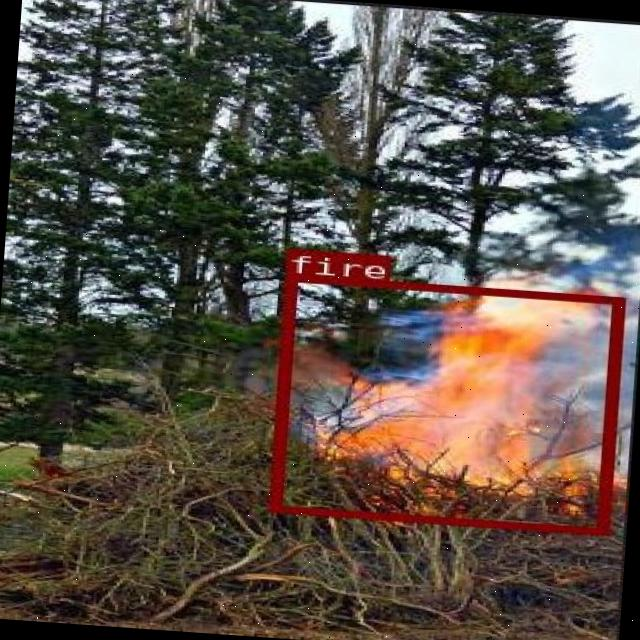fire: (266, 272, 622, 534)
